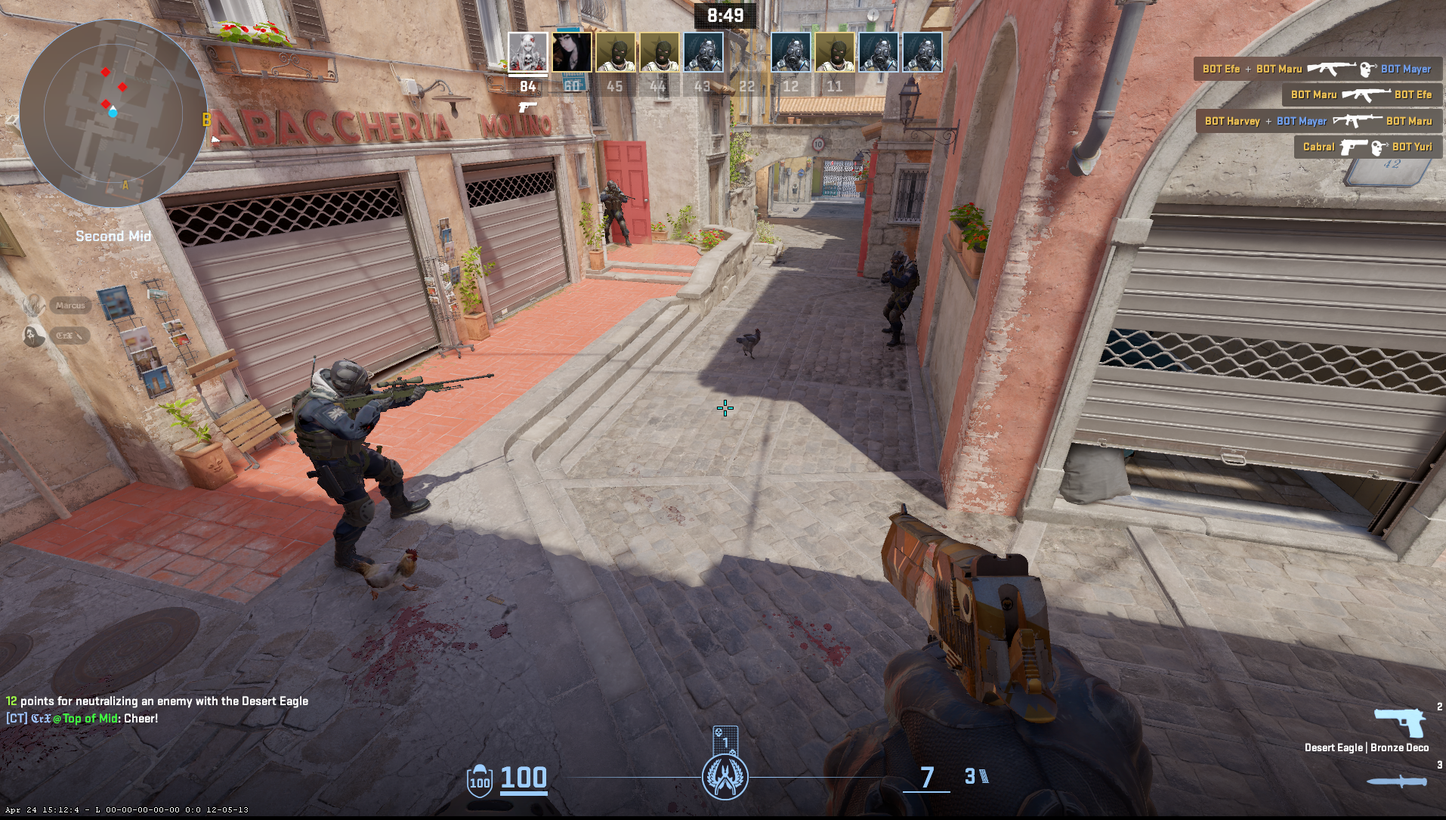CT: (290, 360, 435, 560), (882, 250, 919, 347), (599, 180, 632, 245)
